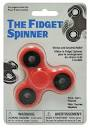fidget_spinner: (8, 36, 73, 112)
